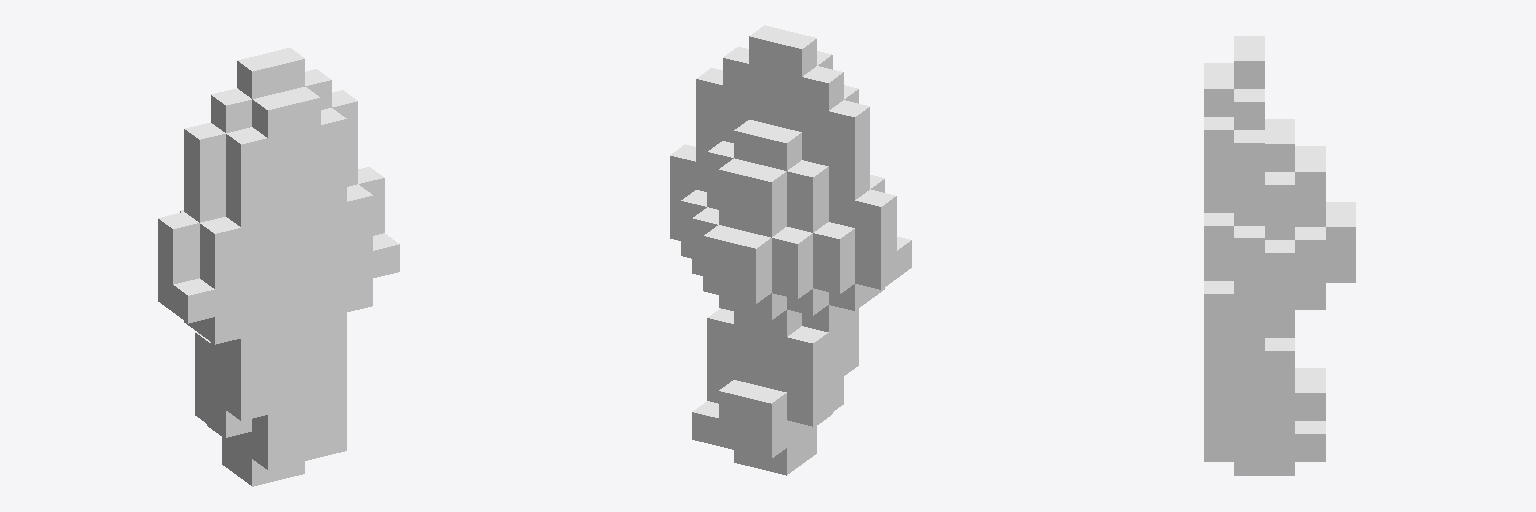
Rendered from Trevor-3.obj.
The picture shows the model from 3 angles: view 1: azimuth 30°, elevation 25°; view 2: azimuth 150°, elevation 25°; view 3: azimuth 270°, elevation 25°; orthographic projection.
Parts seen in each view (by area): view 1: object 1; view 2: object 1; view 3: object 1.
Part boxes in pixels (x1,y1,x2,y2): object 1: (158,48,399,486); object 1: (670,25,911,475); object 1: (1204,36,1355,475).
Size of the model in its own units: 0.8 by 1.5 by 0.5.